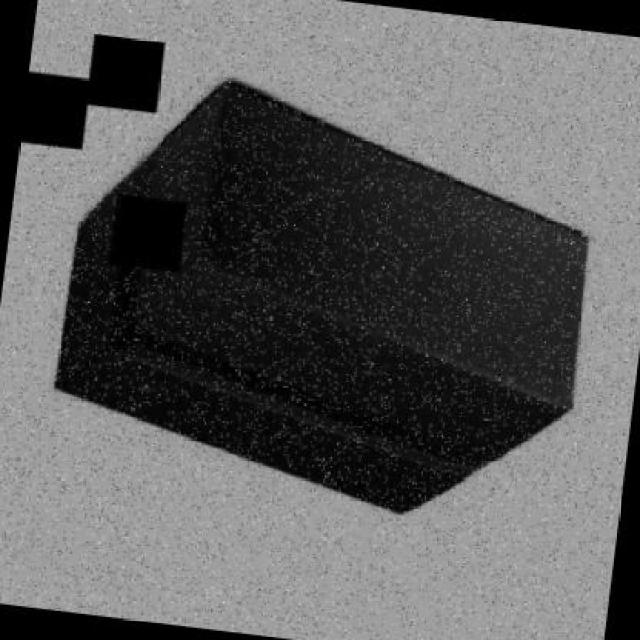box: (31, 52, 640, 556)
